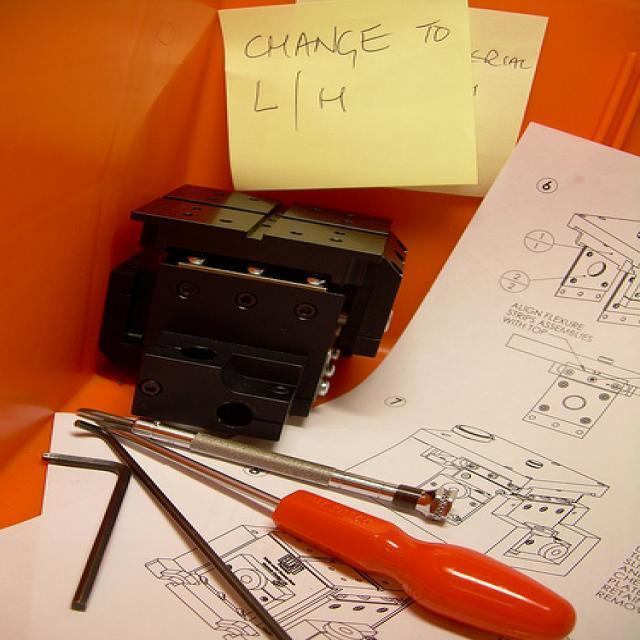screwdriver: (110, 429, 583, 640), (79, 392, 468, 518)
